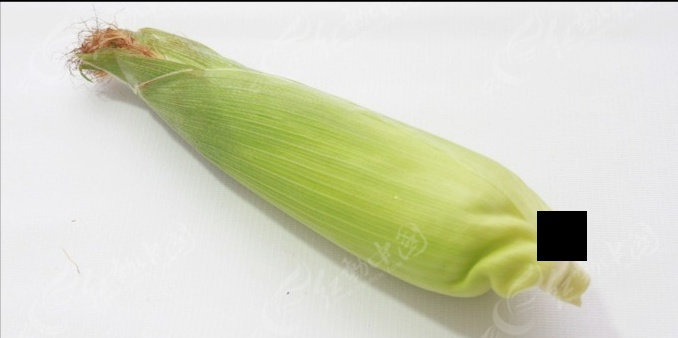corn_plant: (62, 5, 602, 316)
